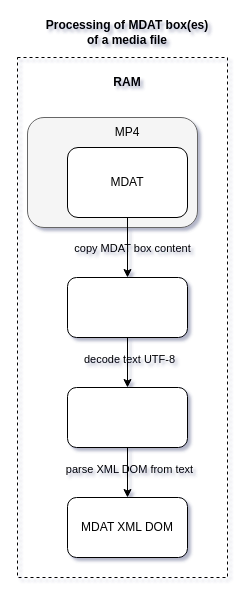
Some shapes in this 251 by 601 pixel diagram are drawn without their labels. Here are the shapes that lost their labels. From the top down, the centre of each, then its label:
At [127,307]: "MDAT binary".
At [127,417]: "MDAT text".
